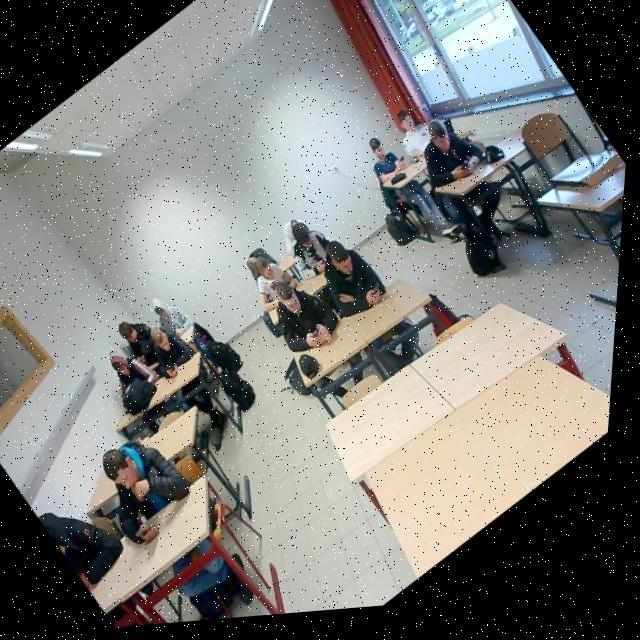phone_use: (100, 476, 208, 586), (256, 261, 336, 349), (318, 240, 383, 315), (423, 120, 483, 187), (279, 219, 327, 288), (246, 247, 294, 313), (118, 321, 174, 376), (137, 321, 192, 376), (437, 183, 497, 226), (368, 137, 403, 208), (151, 297, 192, 342)
